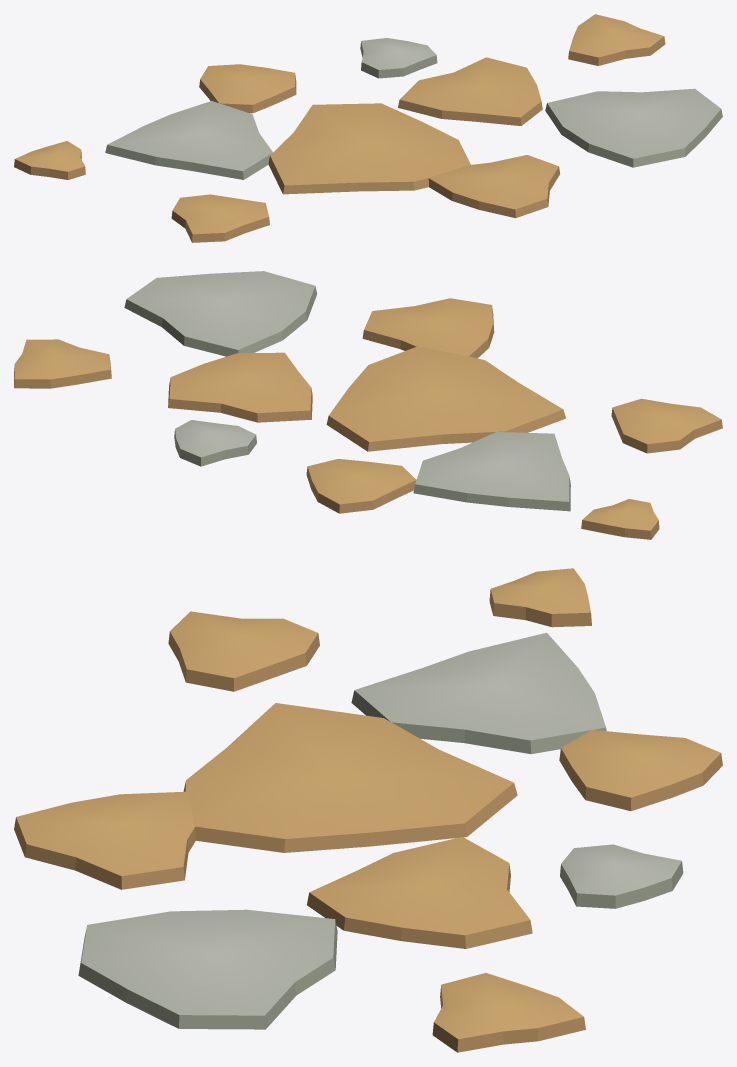
Rendered from LichenCrust_leaf.glb.
3 renders of one model, top to bottom at view 1: azimuth 30°, elevation 25°; view 2: azimuth 150°, elevation 25°; view 3: azimuth 270°, elevation 25°, orthographic. The views are drawn at different scales.
Visible parts, largest first — view 1: LichenCrust_leaf; view 2: LichenCrust_leaf; view 3: LichenCrust_leaf.
Part boxes in pixels (x1,y1,x2,y2): LichenCrust_leaf: (14,14,722,242); LichenCrust_leaf: (14,271,722,539); LichenCrust_leaf: (14,568,722,1052).
Size of the model in its own units: 4.75 by 0.0965 by 3.02.
